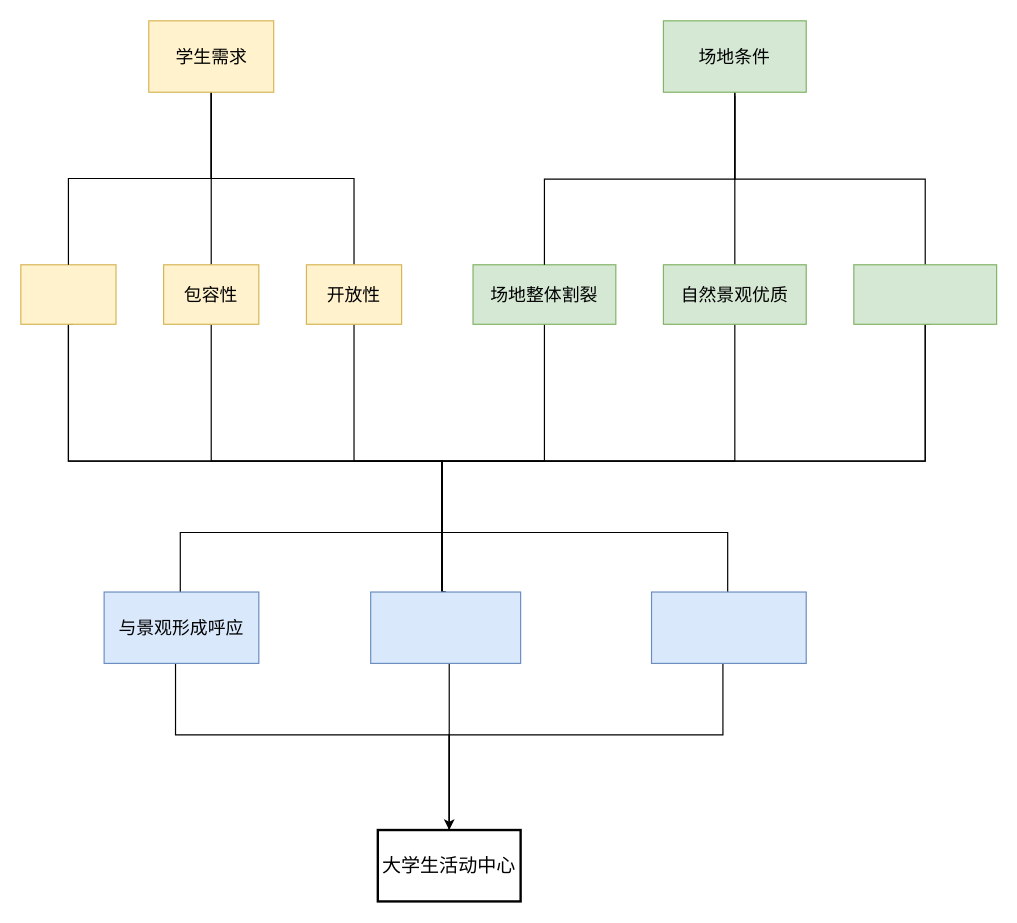
Some shapes in this 1017 by 923 pixel diagram are drawn without their labels. The centre of each missing label's shape, as x and y in pixels:
公共性: (x=68, y=294)
利于学生交往活动: (x=445, y=627)
外部交通便利: (x=925, y=294)
开放性的公共场所: (x=728, y=627)
